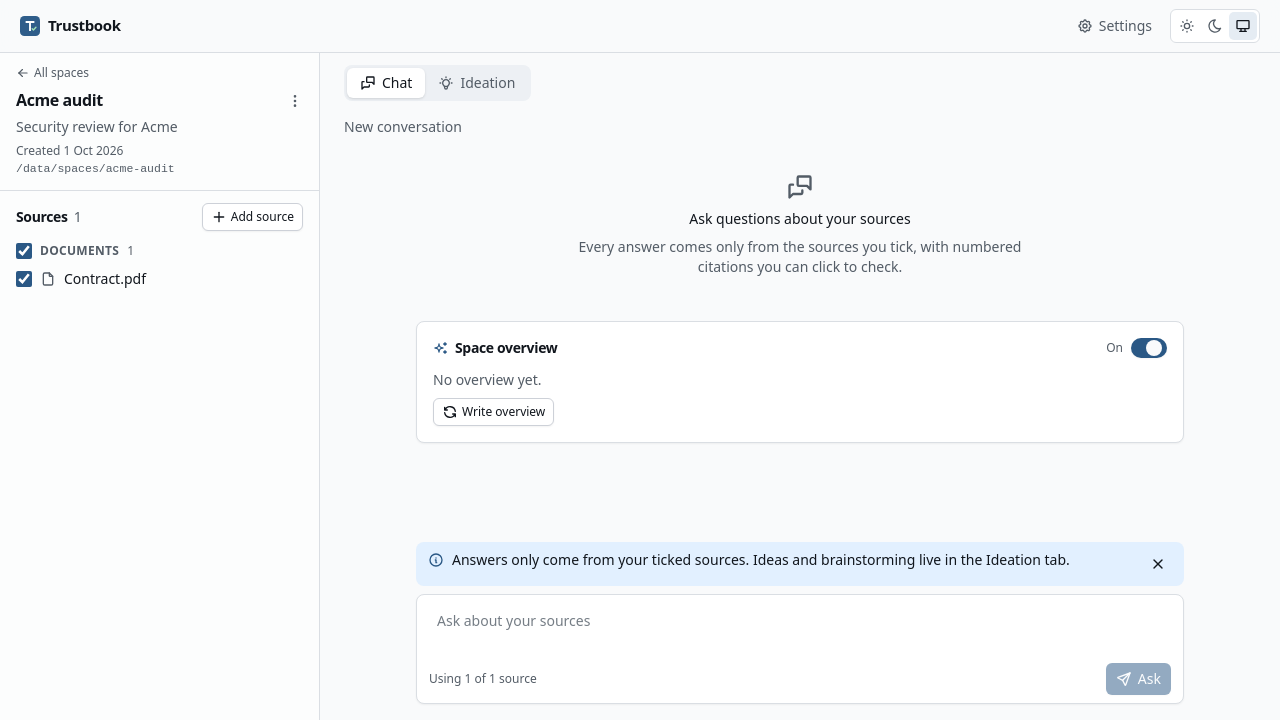
Scenario: sources polling › puts the tick back and explains when the server refuses it
Step 1. Click the checkbox named "Use Contract.pdf" → click(24, 279), box [16,271,32,287]
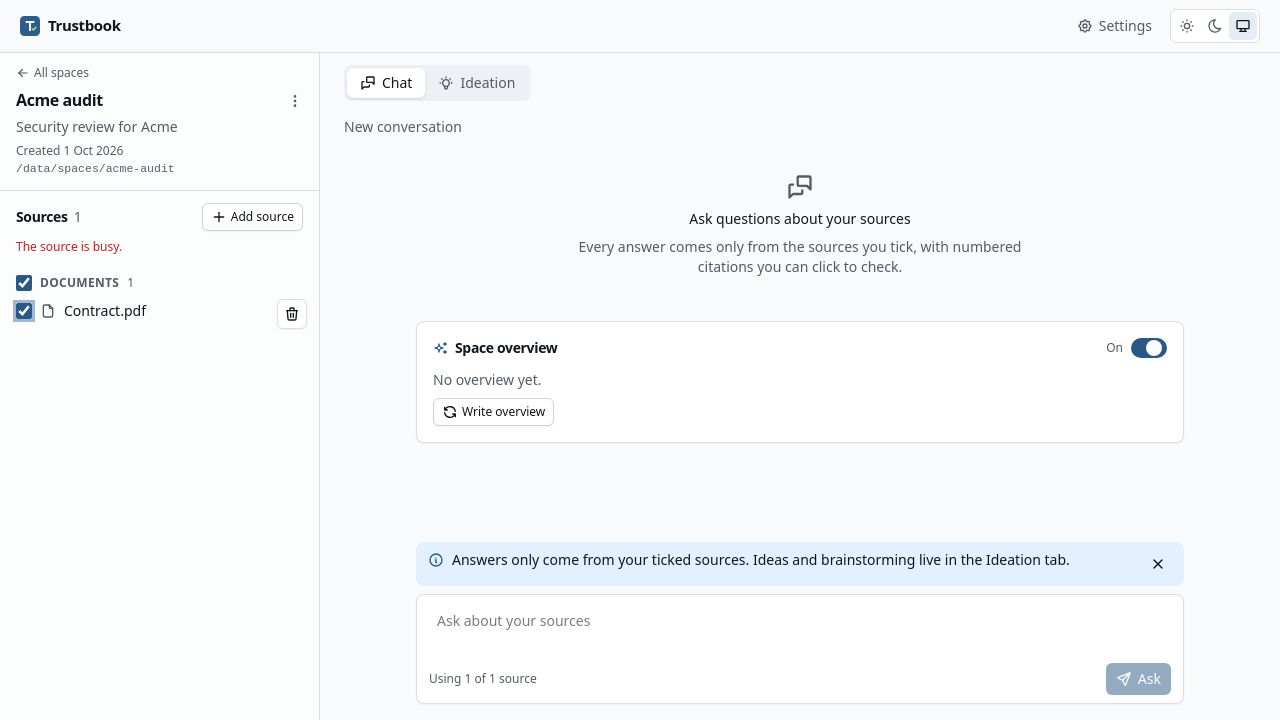
Expected: the checkbox named "Use Contract.pdf" is checked, [16,303,32,319]
Expected: the text "The source is busy." is shown, [16,239,122,255]
